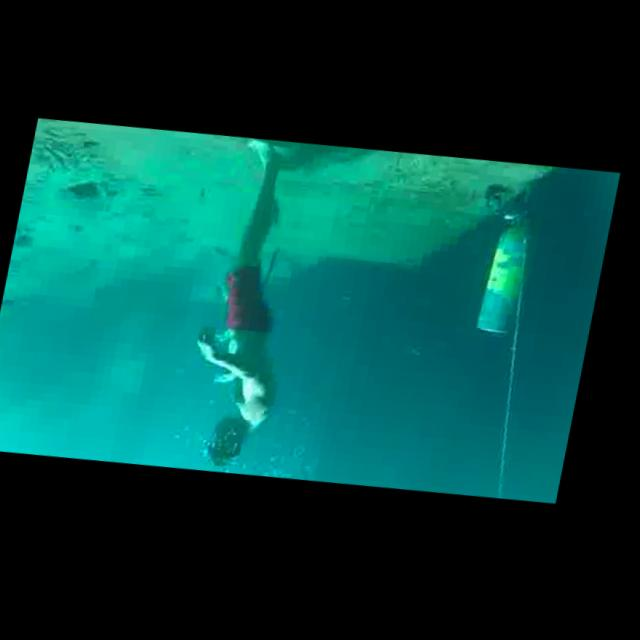human: (175, 136, 327, 478)
